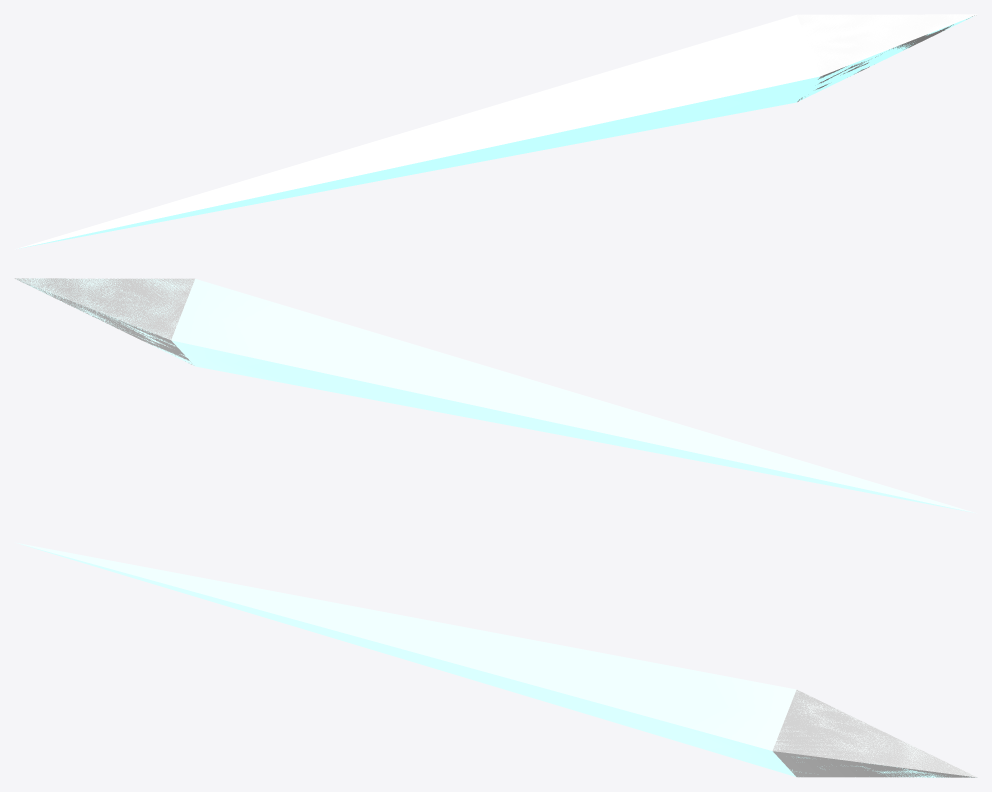
File: Projectile.fbx
3 views of the same model, one above another, from view 1: azimuth 30°, elevation 25°; view 2: azimuth 150°, elevation 25°; view 3: azimuth 330°, elevation 25° (orthographic).
Visible parts, largest first — view 1: Platonic_1, Platonic; view 2: Platonic_1, Platonic; view 3: Platonic_1, Platonic.
Boxes of the visible parts, bbox=[...] form: Platonic_1: bbox=[15, 14, 975, 249]; Platonic: bbox=[797, 14, 977, 101]; Platonic_1: bbox=[16, 278, 976, 513]; Platonic: bbox=[14, 278, 194, 364]; Platonic_1: bbox=[15, 542, 976, 777]; Platonic: bbox=[772, 690, 977, 777].
Bounding box in the file's own units: 2299 × 200 × 200.
